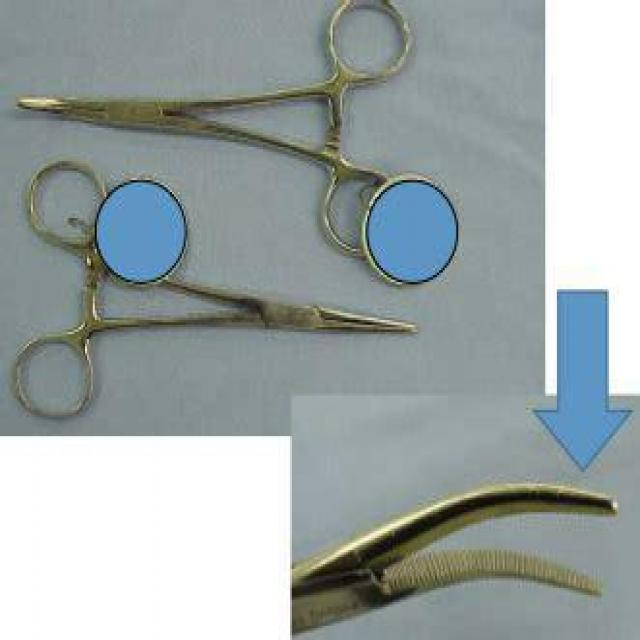Hemostat: (8, 158, 420, 424), (11, 2, 418, 261), (290, 476, 625, 640)
